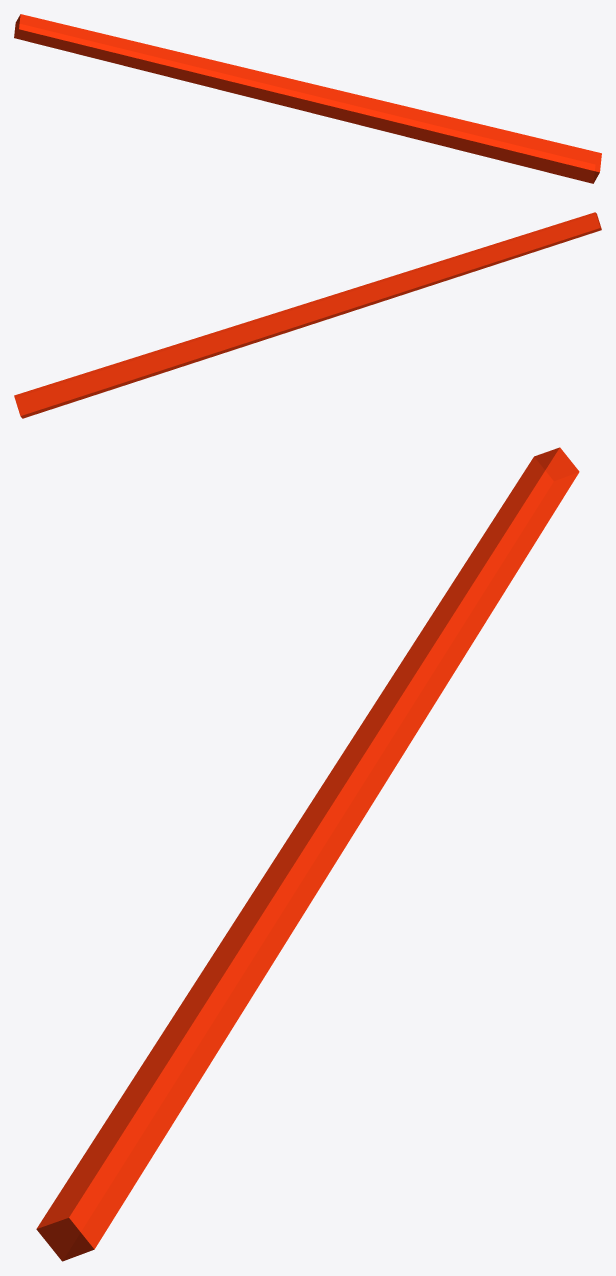
Rendered from Event_421278790_EBrechit_23.fbx.
3 renders of one model, top to bottom at view 1: azimuth 30°, elevation 25°; view 2: azimuth 210°, elevation 25°; view 3: azimuth 270°, elevation 25°, orthographic. The views are drawn at different scales.
Visible parts, largest first — view 1: Model; view 2: Model; view 3: Model.
Boxes of the visible parts, <box> form: Model: <box>14,14,601,183</box>; Model: <box>14,212,601,418</box>; Model: <box>36,447,579,1261</box>.
Bounding box in the file's own units: 1.79 × 0.6882 × 0.8998.
